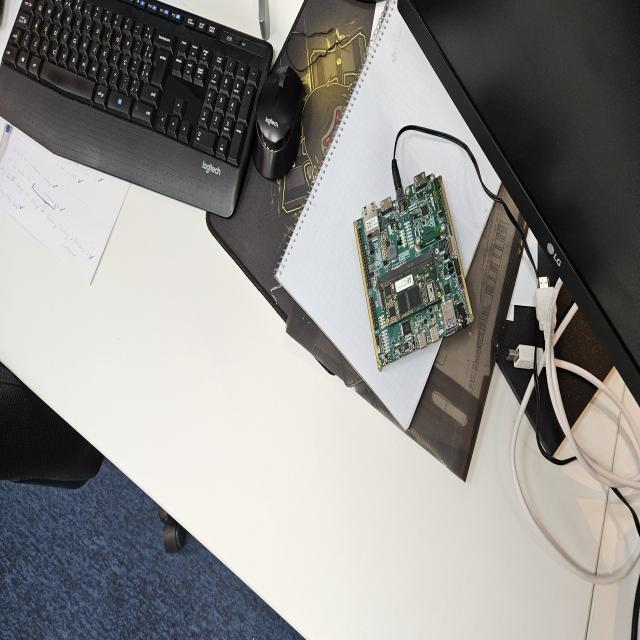som: (375, 257, 446, 330)
